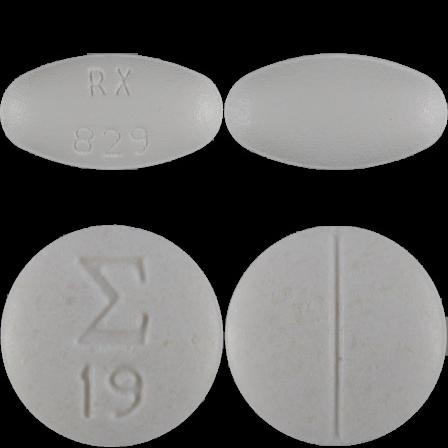51655-640: (0, 0, 224, 224)
